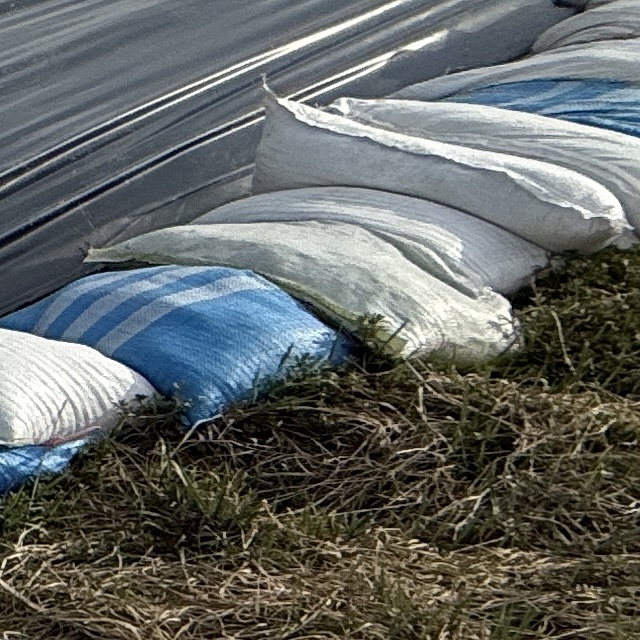sandbag: (85, 223, 521, 364), (254, 93, 628, 252), (327, 98, 640, 234), (191, 187, 549, 297), (391, 40, 640, 101), (449, 80, 640, 138), (0, 441, 86, 494)
